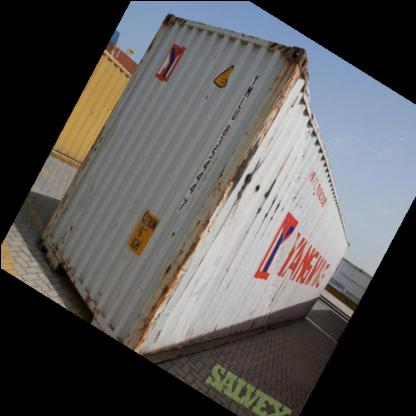Damage: (127, 217, 206, 351), (218, 142, 300, 218), (42, 180, 82, 258), (256, 44, 306, 104), (266, 265, 286, 313)
